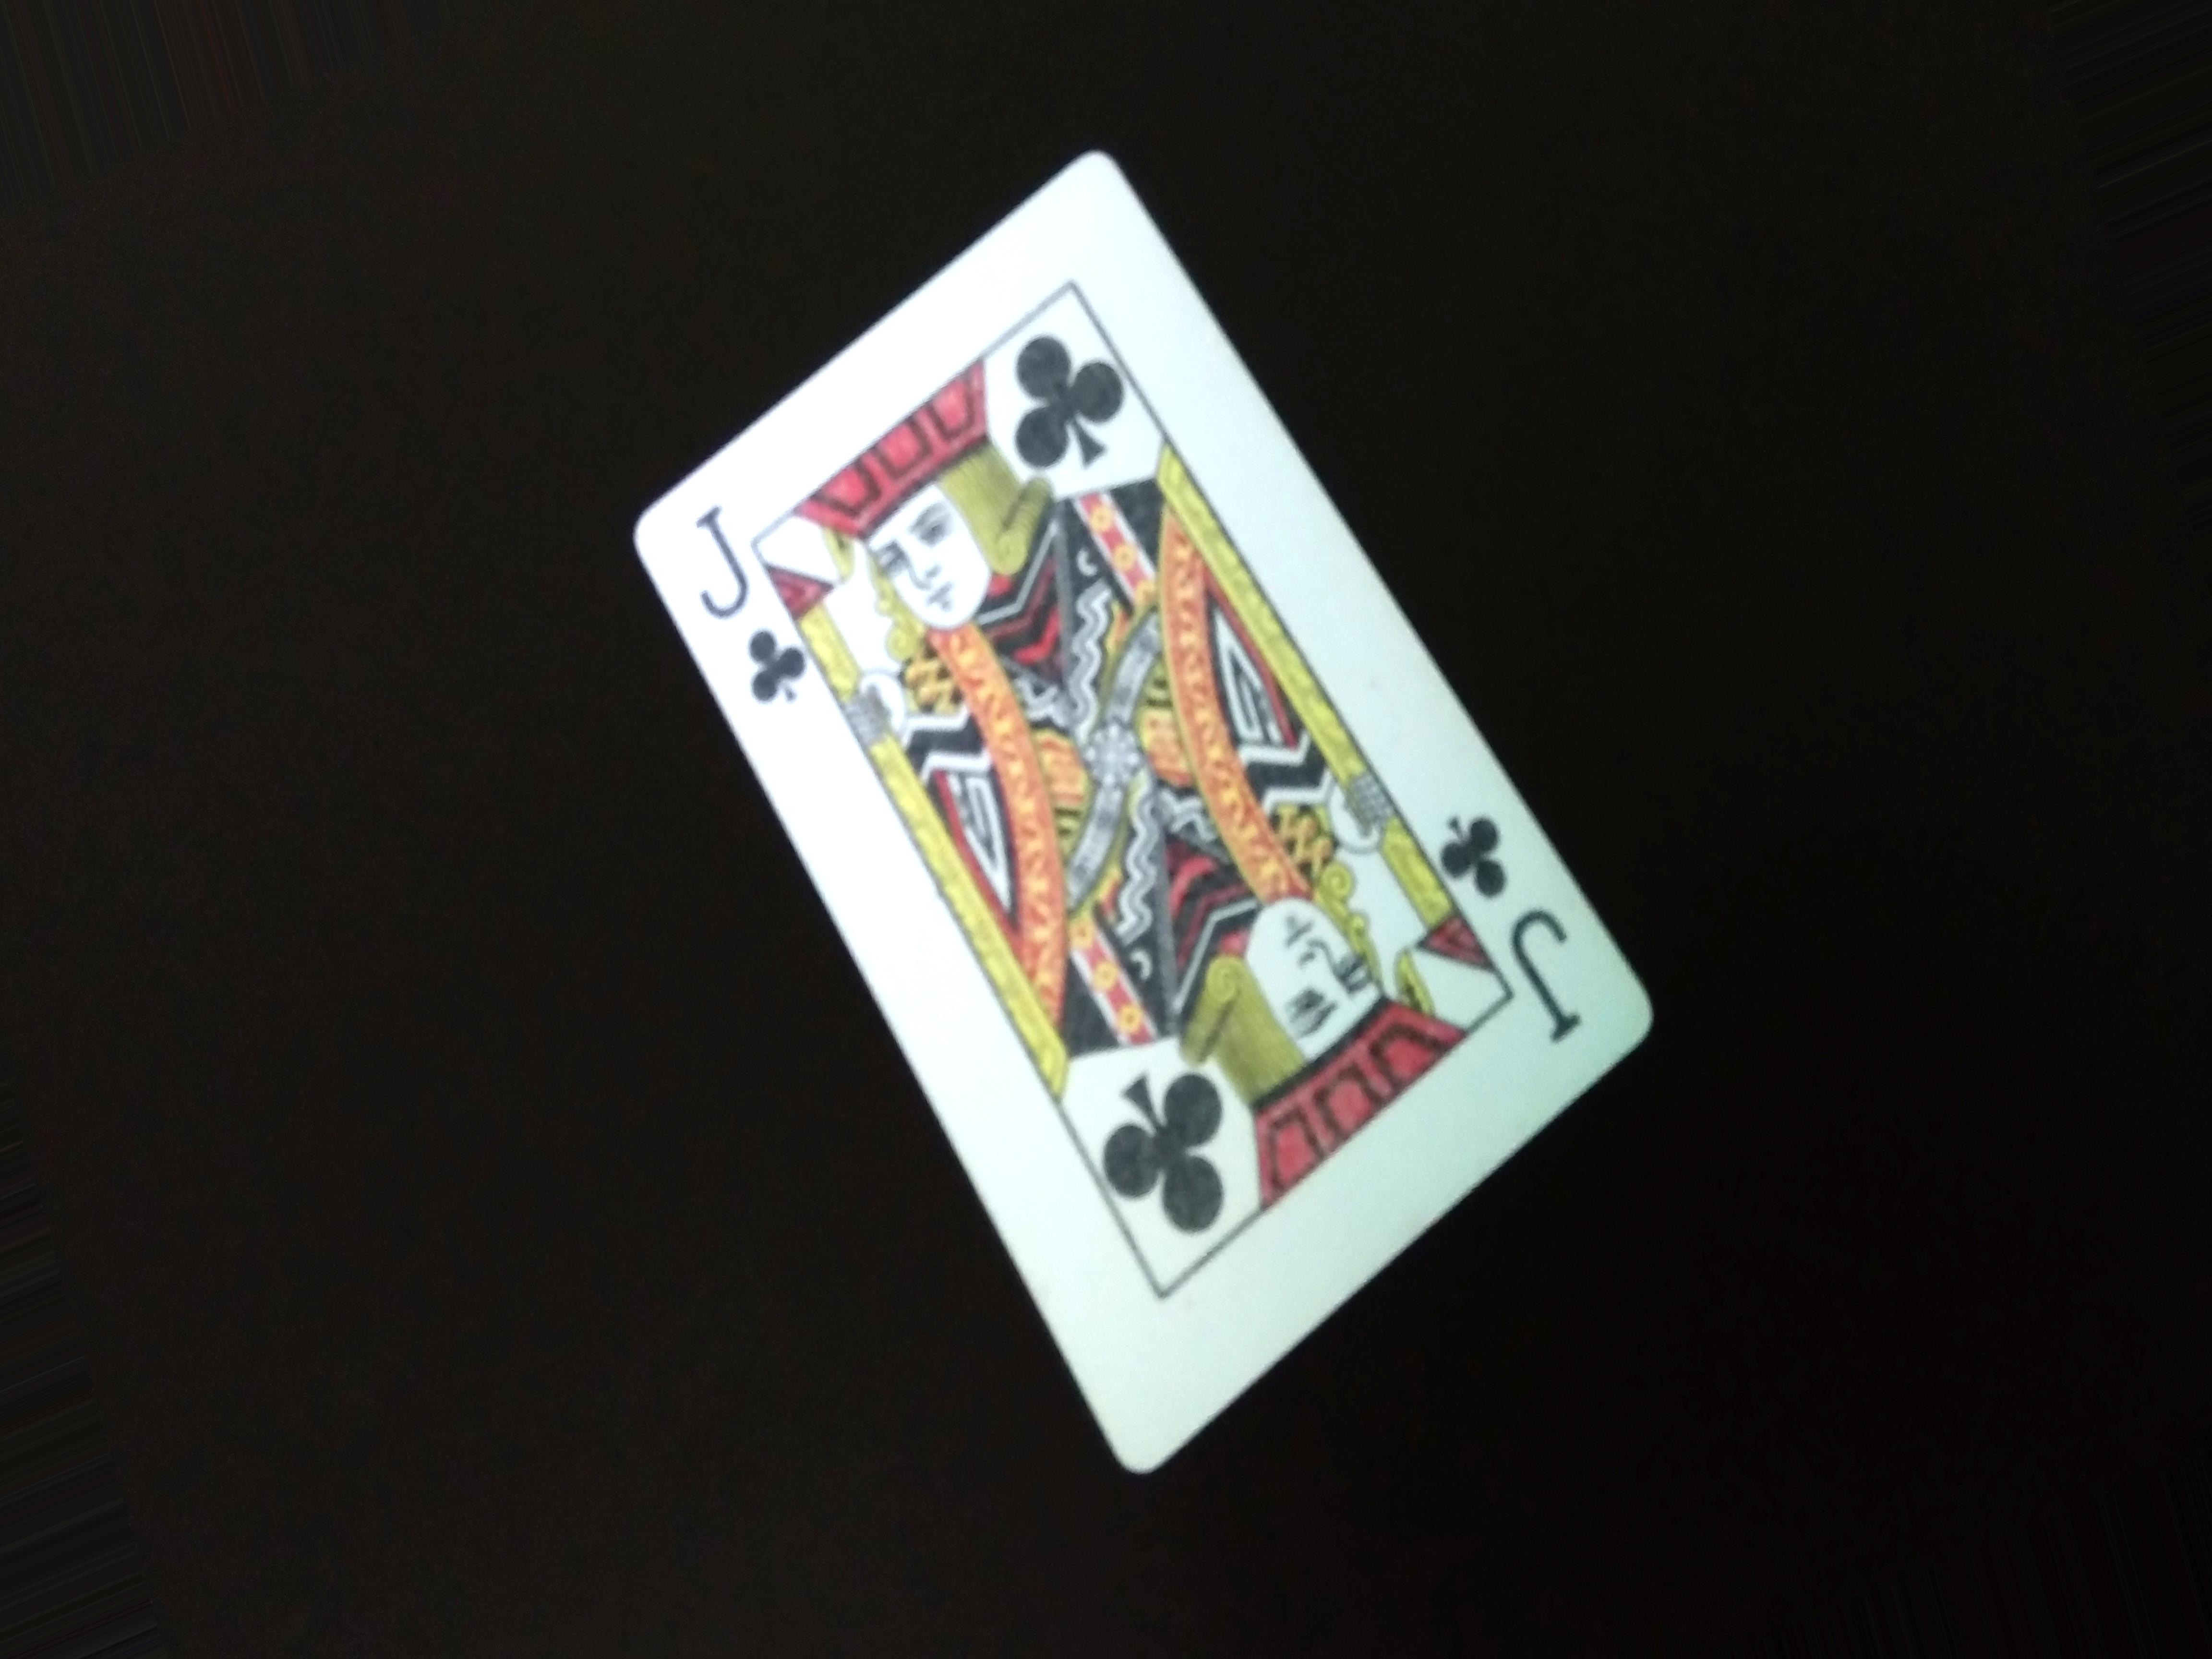JC: (686, 502, 801, 728)
